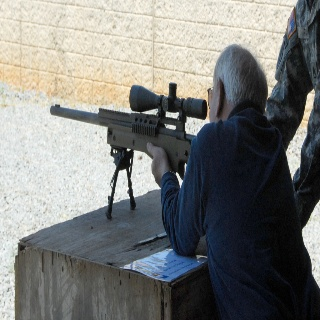rifle: (49, 79, 209, 220)
